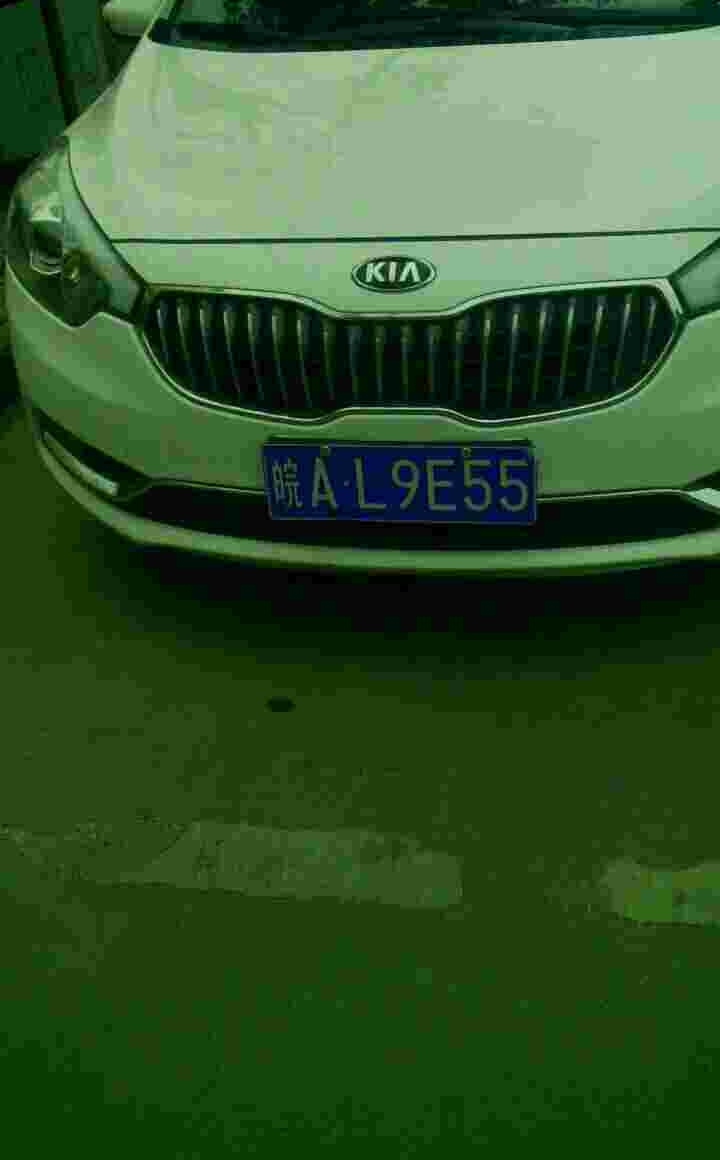license_plate: (255, 439, 548, 514)
